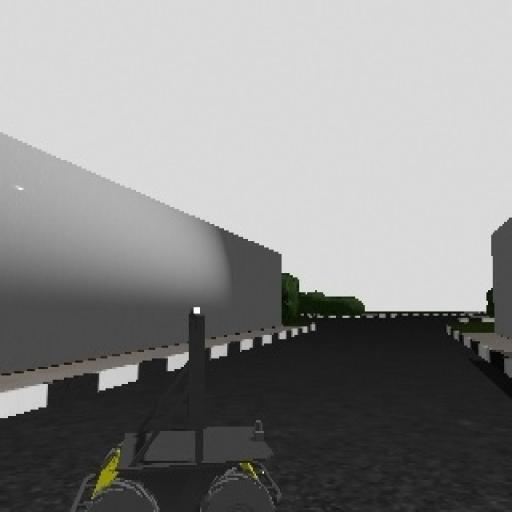huskya200: (49, 291, 297, 512)
